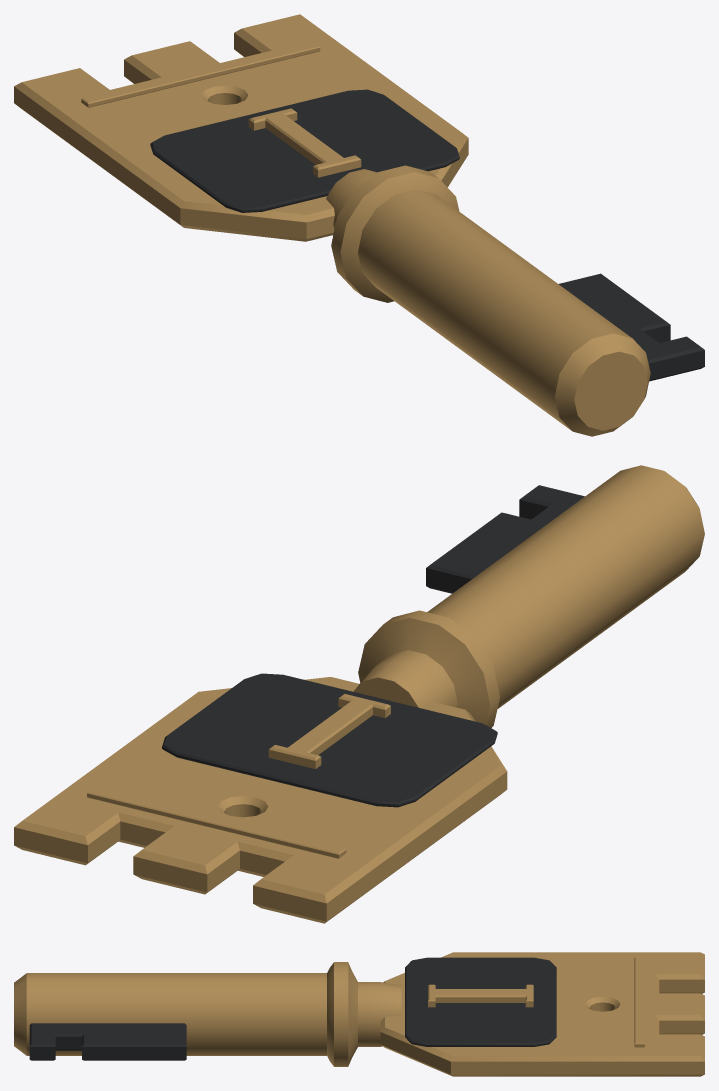
Rendered from tower_key_1.glb.
The picture shows the model from 3 angles, top to bottom: view 1: azimuth 30°, elevation 25°; view 2: azimuth 150°, elevation 25°; view 3: azimuth 270°, elevation 25°; orthographic projection. The views are drawn at different scales.
Parts seen in each view (by area): view 1: tower_key_1, key_bit; view 2: tower_key_1, key_bit; view 3: tower_key_1, key_bit.
Boxes of the visible parts, x1,y1,x2,y2 form: tower_key_1: (14, 14, 650, 436); key_bit: (150, 89, 704, 381); tower_key_1: (14, 465, 704, 923); key_bit: (162, 485, 584, 807); tower_key_1: (14, 952, 704, 1076); key_bit: (29, 957, 556, 1060).
Bounding box in the file's own units: 0.036 × 0.0148 × 0.098.
